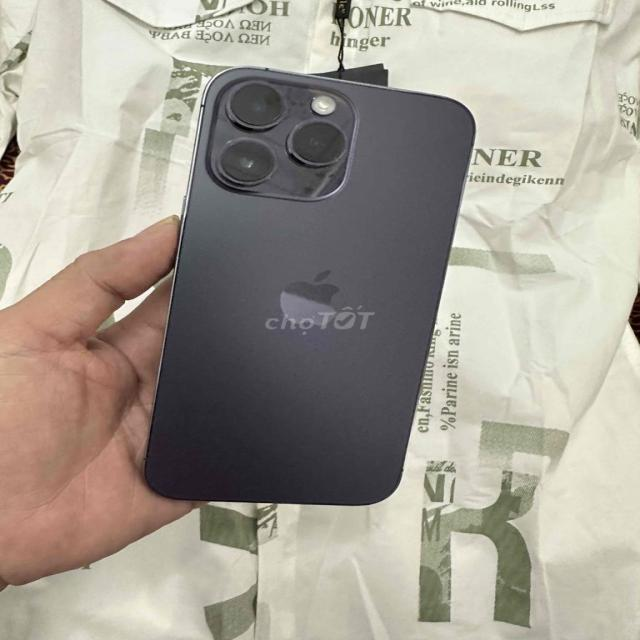gen_14: (142, 68, 478, 508)
